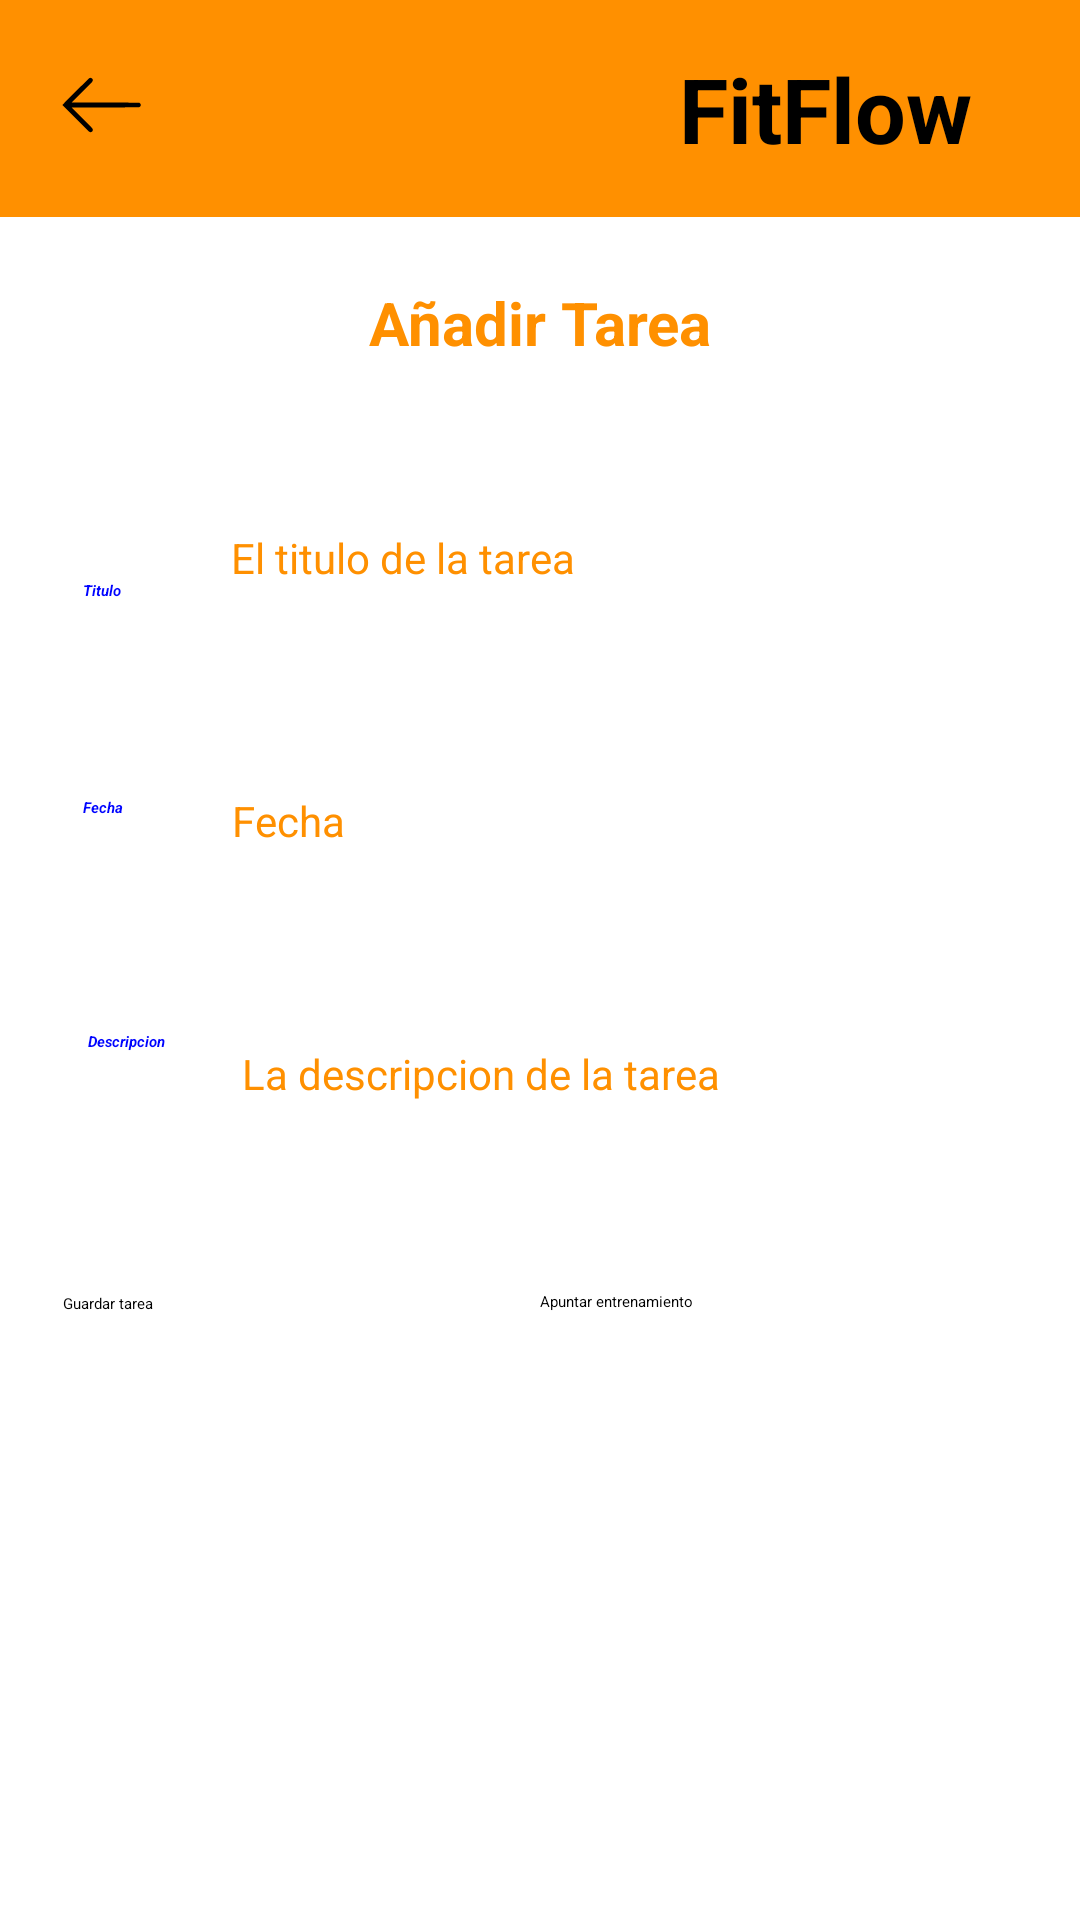

Icon bounding boxes for this 1080 x 1920 phone screenshot, format [left=x1, top=y1, right=x2, bottom=y2]:
leftarrow izquierda: [left=62, top=77, right=141, bottom=133]
